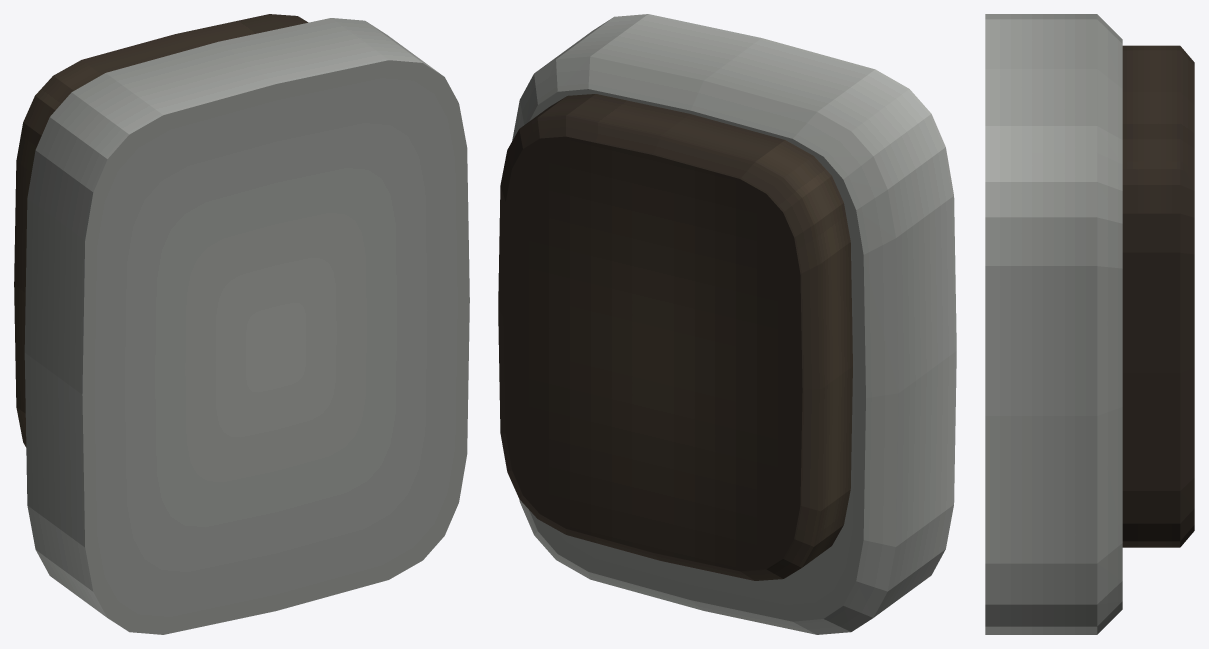
Rendered from streetlight_altomvwl.obj.
The picture shows the model from 3 angles, left to right: view 1: azimuth 30°, elevation 25°; view 2: azimuth 150°, elevation 25°; view 3: azimuth 270°, elevation 25°; orthographic projection. The views are drawn at different scales.
Visible parts, largest first — view 1: fixture; view 2: fixture; view 3: fixture.
Boxes of the visible parts, x1=… form: fixture: x1=14, y1=14, x2=469, y2=634; fixture: x1=498, y1=14, x2=956, y2=634; fixture: x1=985, y1=14, x2=1194, y2=634.
Size of the model in its own units: 0.375 by 0.4875 by 0.1812.
